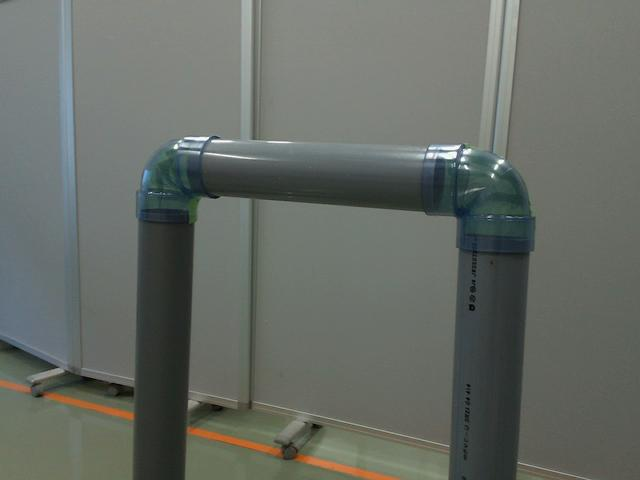bent: (415, 142, 534, 255), (136, 136, 230, 225)
